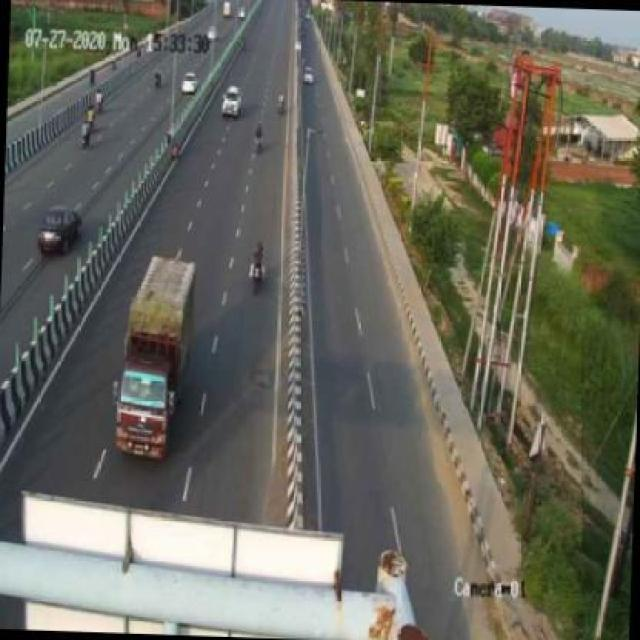car: (36, 203, 86, 262), (217, 82, 248, 126)
